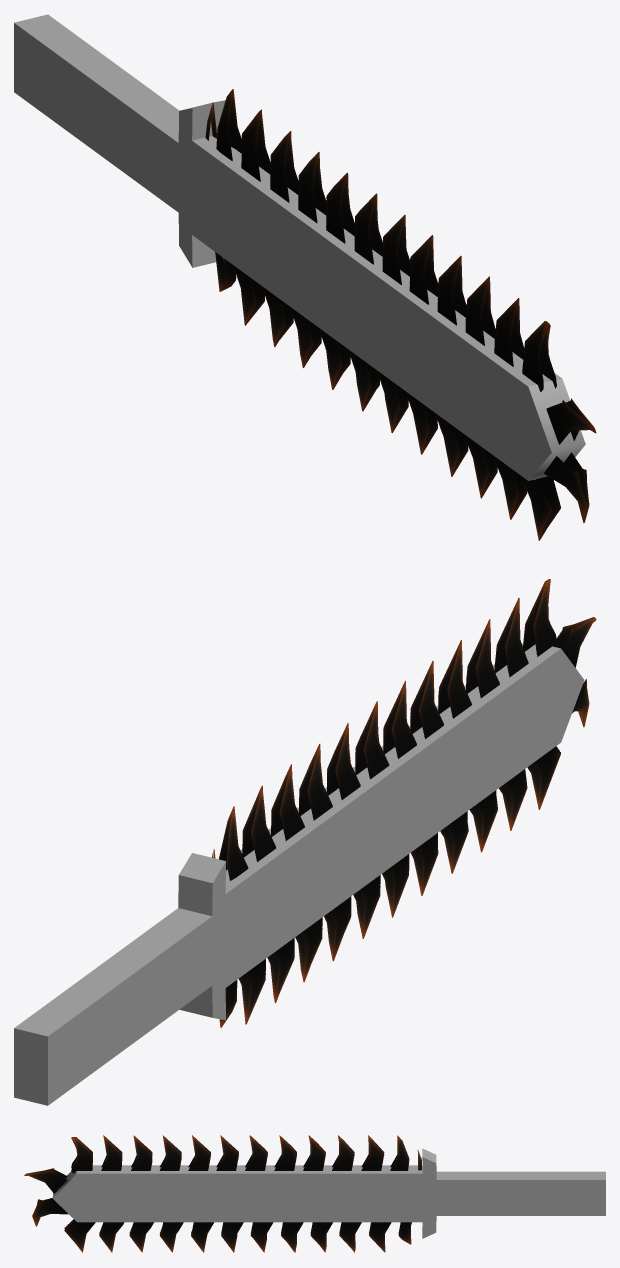
Rendered from ChainSword.fbx.
3 views of the same model, one above another, from view 1: azimuth 30°, elevation 25°; view 2: azimuth 150°, elevation 25°; view 3: azimuth 270°, elevation 25° (orthographic). The views are drawn at different scales.
Visible parts, largest first — view 1: ChainSword, ChainSwordBlade; view 2: ChainSword, ChainSwordBlade; view 3: ChainSword, ChainSwordBlade.
Part boxes in pixels (x1,y1,x2,y2): ChainSword: (14,14,585,480); ChainSwordBlade: (205,89,596,540); ChainSword: (14,643,584,1105); ChainSwordBlade: (212,579,596,1027); ChainSword: (53,1148,605,1238); ChainSwordBlade: (24,1135,421,1252).
Bounding box in the file's own units: 5.13 × 33.44 × 150.
